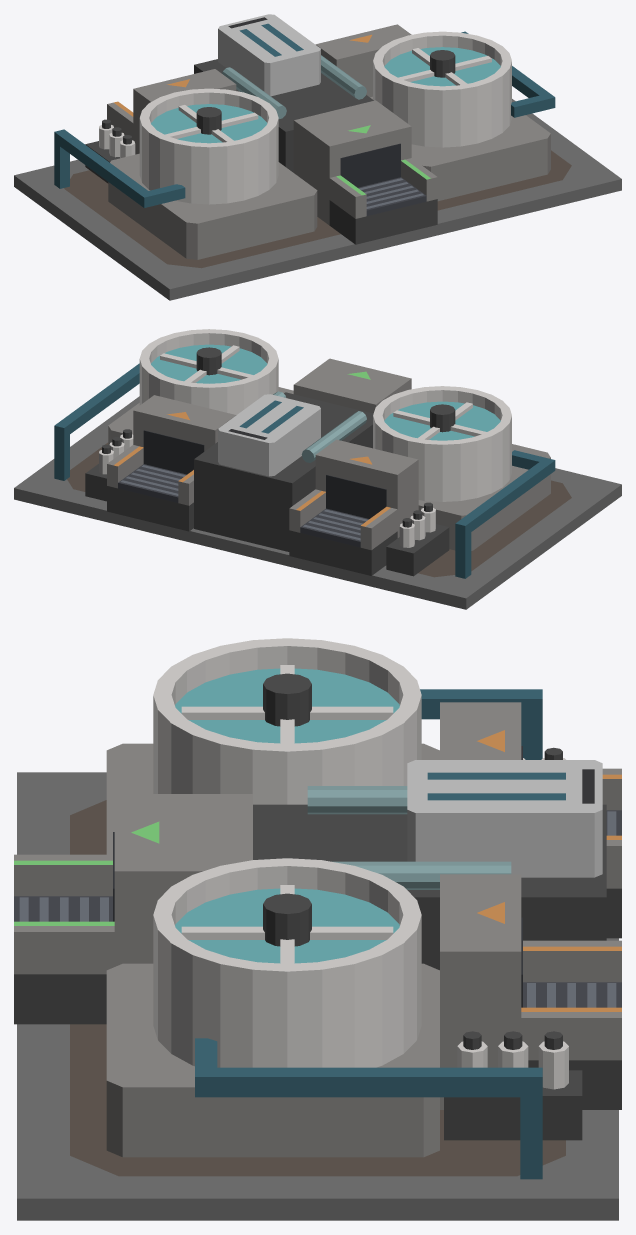
File: vfef_neutroamine.obj
The picture shows the model from 3 angles, top to bottom: view 1: azimuth 30°, elevation 25°; view 2: azimuth 150°, elevation 25°; view 3: azimuth 270°, elevation 25°; orthographic projection. The views are drawn at different scales.
Parts seen in each view (by area): view 1: vfef_neutroamine_0, vfef_neutroamine_3, vfef_neutroamine_2, vfef_neutroamine_29, vfef_neutroamine_60, vfef_neutroamine_28, vfef_neutroamine_1, vfef_neutroamine_55, vfef_neutroamine_54, vfef_neutroamine_62, vfef_neutroamine_34, vfef_neutroamine_4 (+20 smaller); view 2: vfef_neutroamine_0, vfef_neutroamine_54, vfef_neutroamine_3, vfef_neutroamine_29, vfef_neutroamine_55, vfef_neutroamine_8, vfef_neutroamine_60, vfef_neutroamine_34, vfef_neutroamine_1, vfef_neutroamine_2, vfef_neutroamine_10, vfef_neutroamine_36 (+26 smaller); view 3: vfef_neutroamine_0, vfef_neutroamine_29, vfef_neutroamine_28, vfef_neutroamine_3, vfef_neutroamine_55, vfef_neutroamine_1, vfef_neutroamine_54, vfef_neutroamine_60, vfef_neutroamine_34, vfef_neutroamine_52, vfef_neutroamine_4, vfef_neutroamine_30 (+27 smaller).
Part boxes in pixels (box(x1,y1,x2,y2)): vfef_neutroamine_0: box(14, 99, 621, 300); vfef_neutroamine_3: box(139, 88, 278, 204); vfef_neutroamine_2: box(108, 153, 317, 259); vfef_neutroamine_29: box(373, 31, 511, 147); vfef_neutroamine_60: box(293, 100, 411, 225); vfef_neutroamine_28: box(370, 96, 550, 201); vfef_neutroamine_1: box(64, 150, 571, 268); vfef_neutroamine_55: box(218, 14, 320, 96); vfef_neutroamine_54: box(194, 59, 373, 172); vfef_neutroamine_62: box(329, 199, 437, 244); vfef_neutroamine_34: box(315, 24, 411, 97); vfef_neutroamine_4: box(151, 104, 267, 143); vfef_neutroamine_0: box(14, 396, 621, 609); vfef_neutroamine_54: box(194, 392, 373, 551); vfef_neutroamine_3: box(373, 386, 511, 501); vfef_neutroamine_29: box(139, 329, 278, 414); vfef_neutroamine_55: box(218, 394, 320, 476); vfef_neutroamine_8: box(315, 439, 418, 537); vfef_neutroamine_60: box(293, 358, 411, 413); vfef_neutroamine_34: box(133, 395, 236, 451); vfef_neutroamine_1: box(67, 442, 571, 577); vfef_neutroamine_2: box(418, 444, 550, 550); vfef_neutroamine_10: box(289, 530, 397, 575); vfef_neutroamine_36: box(107, 486, 193, 531); vfef_neutroamine_0: box(17, 772, 618, 1220); vfef_neutroamine_29: box(153, 858, 421, 1067); vfef_neutroamine_28: box(106, 963, 439, 1157); vfef_neutroamine_3: box(153, 638, 421, 804); vfef_neutroamine_55: box(407, 760, 602, 877); vfef_neutroamine_1: box(70, 800, 565, 1176); vfef_neutroamine_54: box(253, 804, 606, 970); vfef_neutroamine_60: box(114, 794, 252, 966); vfef_neutroamine_34: box(440, 874, 521, 1109); vfef_neutroamine_52: box(195, 1067, 542, 1097); vfef_neutroamine_4: box(175, 668, 399, 743); vfef_neutroamine_30: box(175, 888, 399, 963).
Size of the model in its own units: 4.96 by 1.2 by 2.99.
